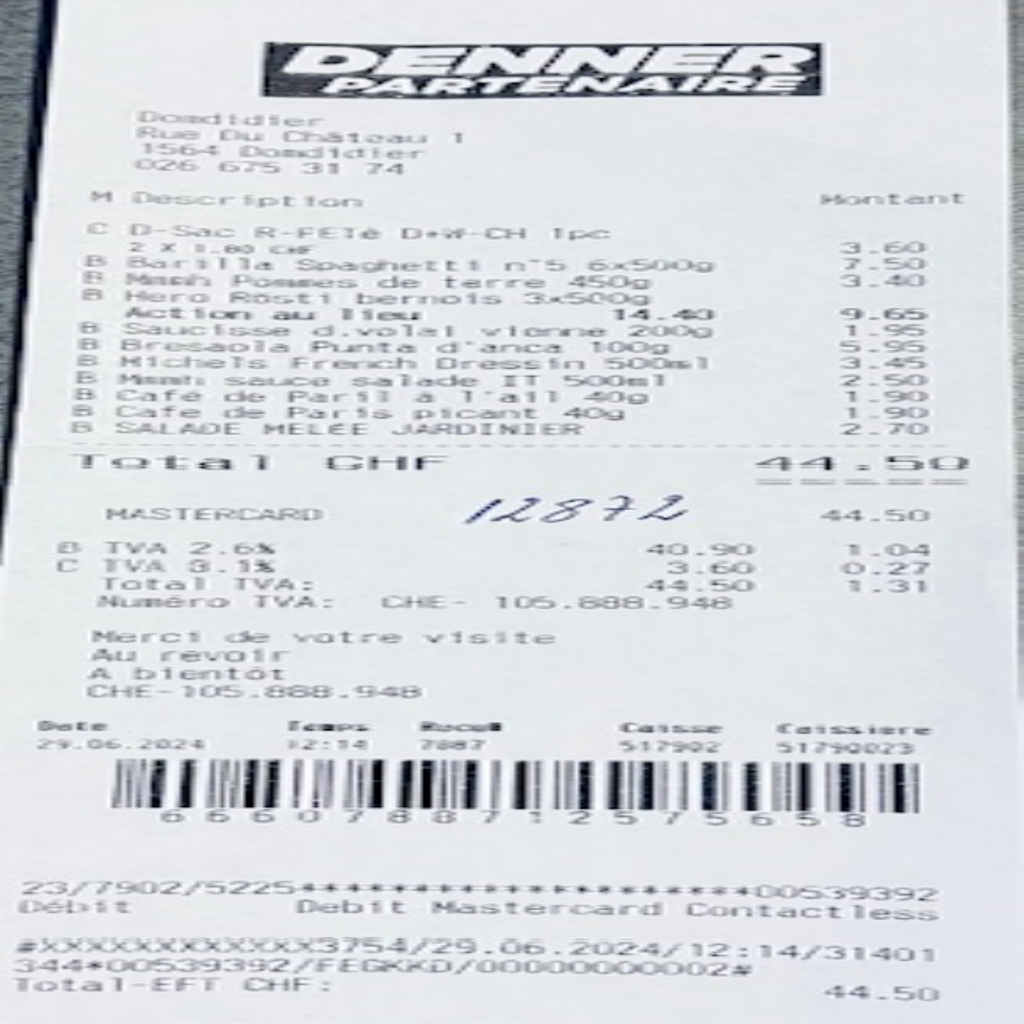recipt: (0, 0, 1011, 1011)
